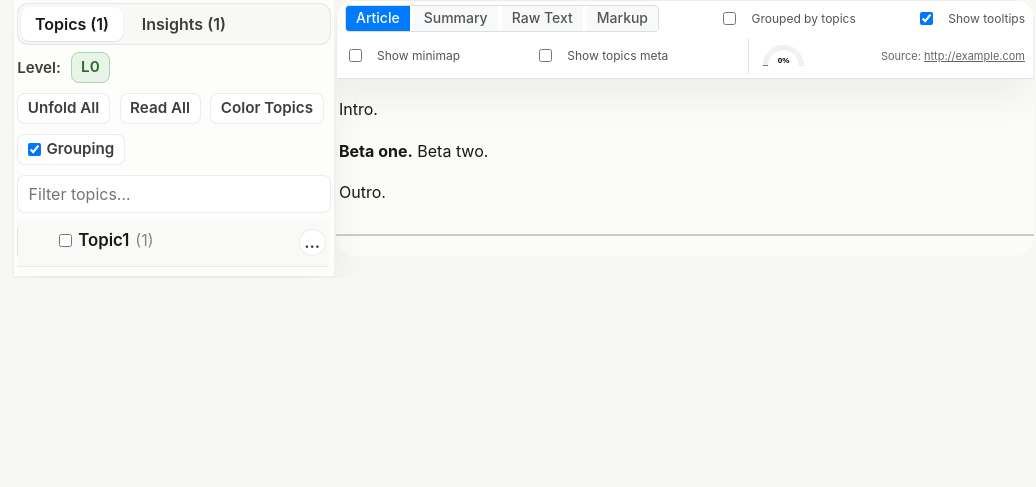
Test: TextPage raw text navigation › renders the Markup tab in article order without duplicating the original source sentence
Expected: the text "Source:" is shown, left=881, top=49, right=921, bottom=63
Click the button "Markup": (622, 18) left=587, top=6, right=658, bottom=31
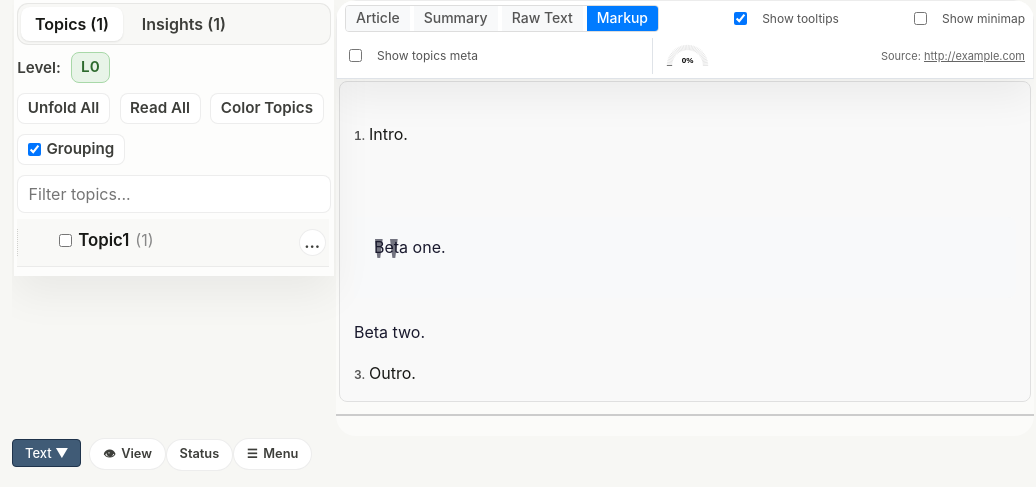
Expected: the text "Intro." is shown, left=369, top=124, right=408, bottom=144
Expected: the number of elements with class "markup-quote" is 1, left=354, top=217, right=1016, bottom=298
